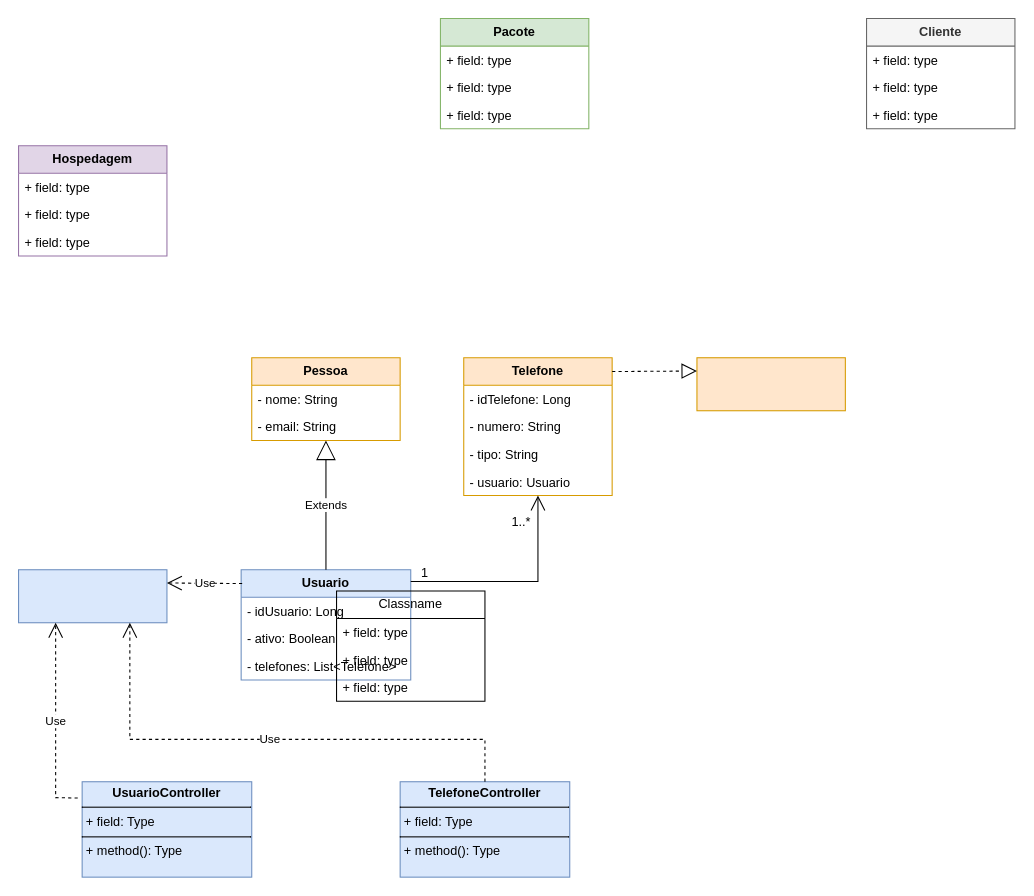
This 1034x896 diagram has some shape labels left out. The centre of each missing label's shape, as x and y in pixels:
"«interface» TelefoneRepository" goes at (770,384).
"«interface» UsuarioRepository" goes at (92,596).
